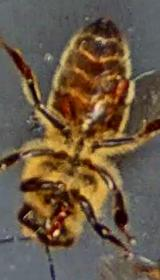varroa_mite: (104, 68, 138, 111), (52, 91, 80, 122)
